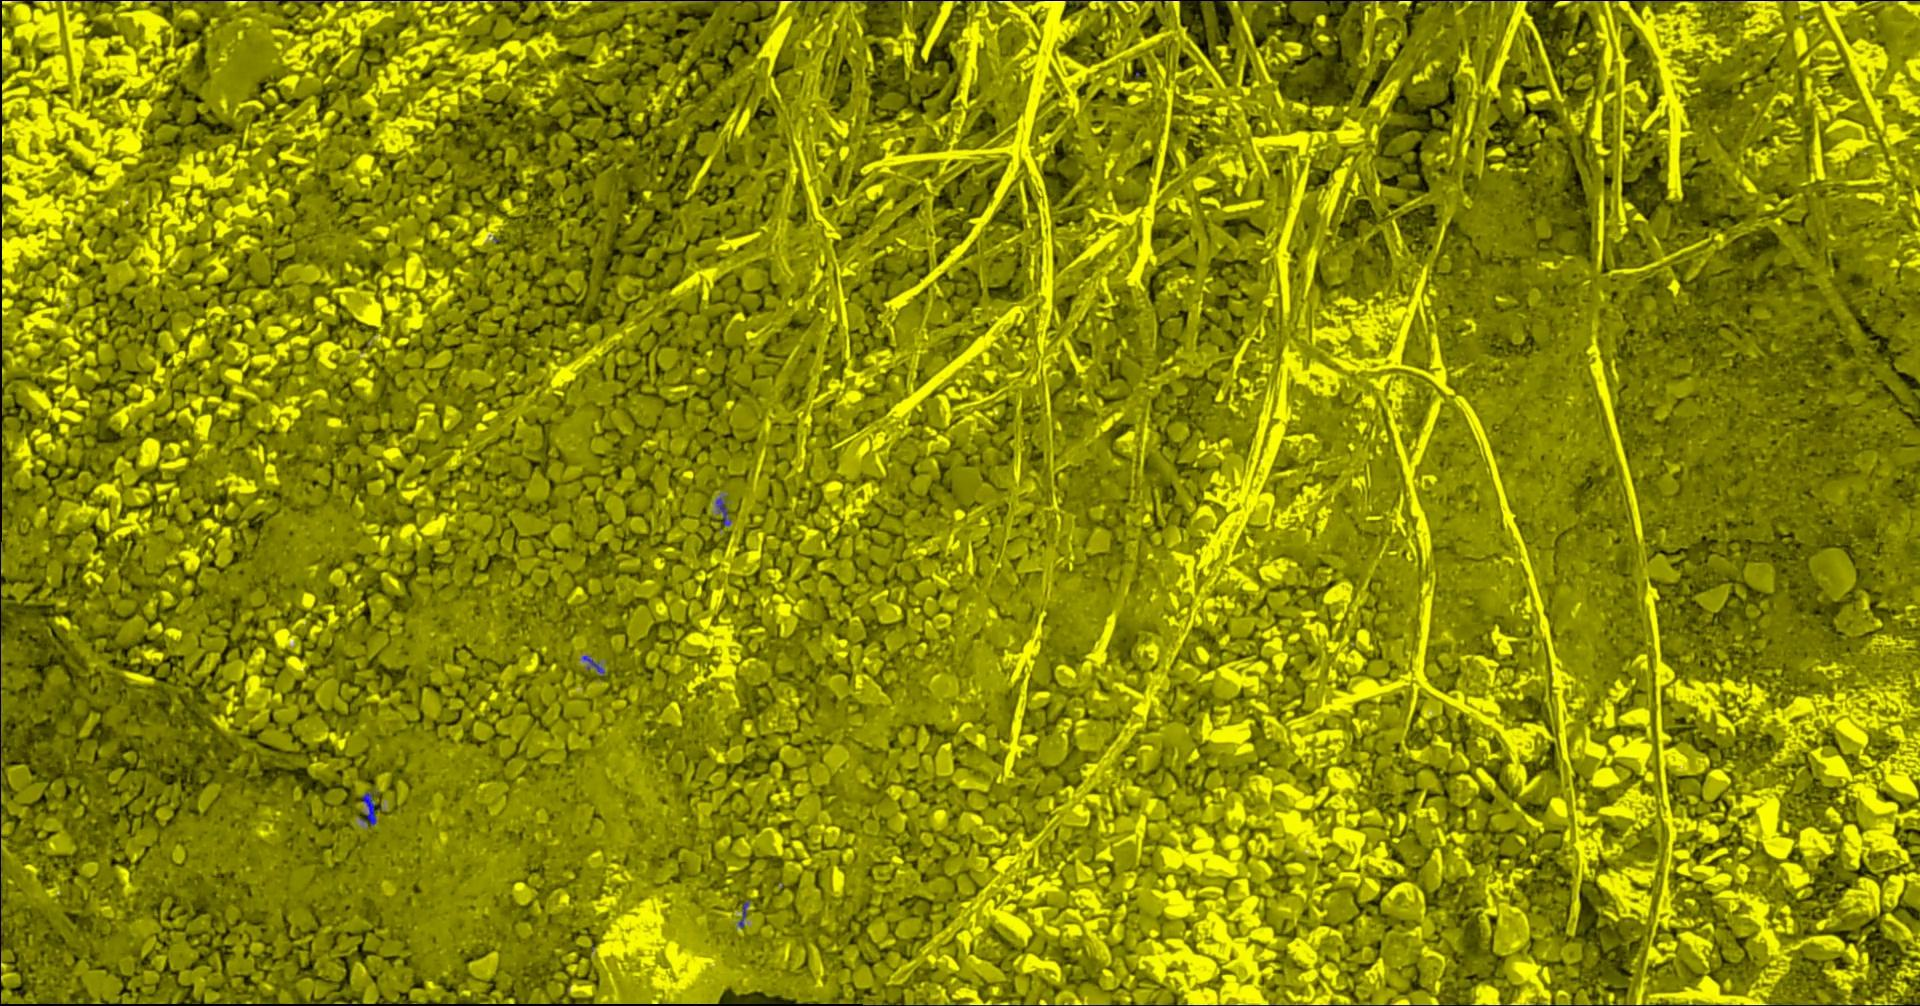ant: (361, 789, 381, 826), (583, 655, 606, 674), (717, 497, 731, 525), (739, 901, 750, 929)
